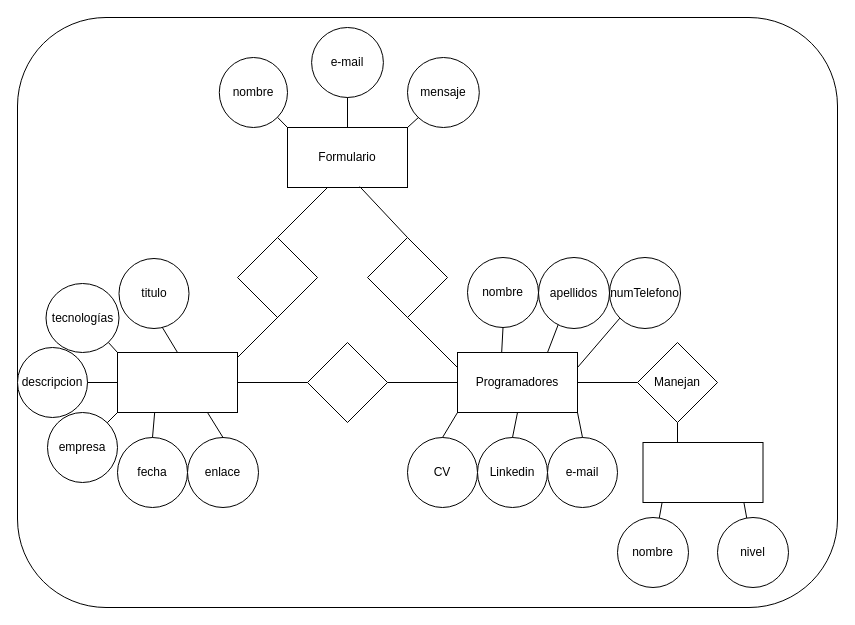
Some shapes in this 855 by 625 pixel diagram are drawn without their labels. The shapes that lost their labels are listed below. From the top down, each one's box as (x1, y1, x2, y2) in pixels, then its label:
(236, 236, 318, 318): visualizan
(366, 236, 448, 318): contacta con
(116, 352, 238, 412): Proyectos
(306, 342, 388, 422): realizan
(642, 442, 763, 502): Tecnologias
